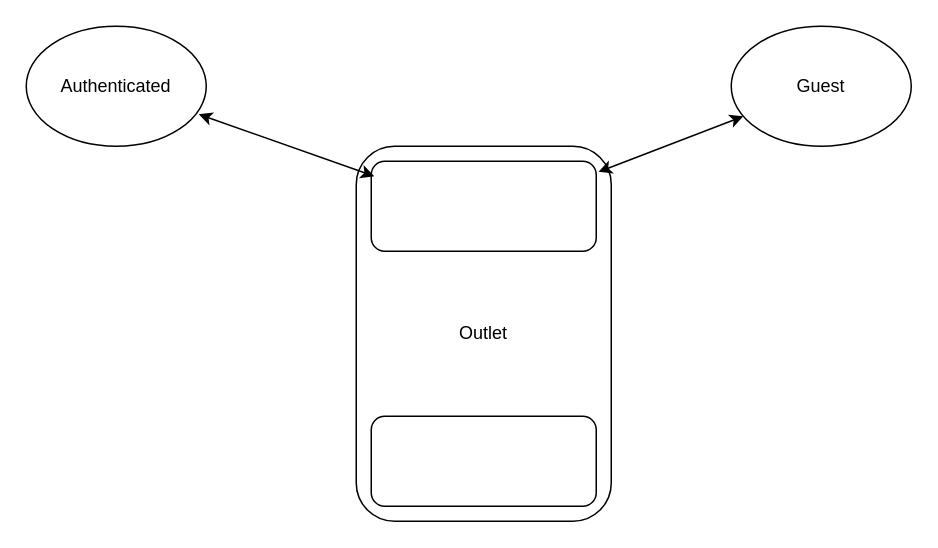
This 938x548 diagram has some shape labels left out. The centre of each missing label's shape, as x and y in pixels:
"Footer" belongs at (x=483, y=460).
"Header" belongs at (x=483, y=205).
